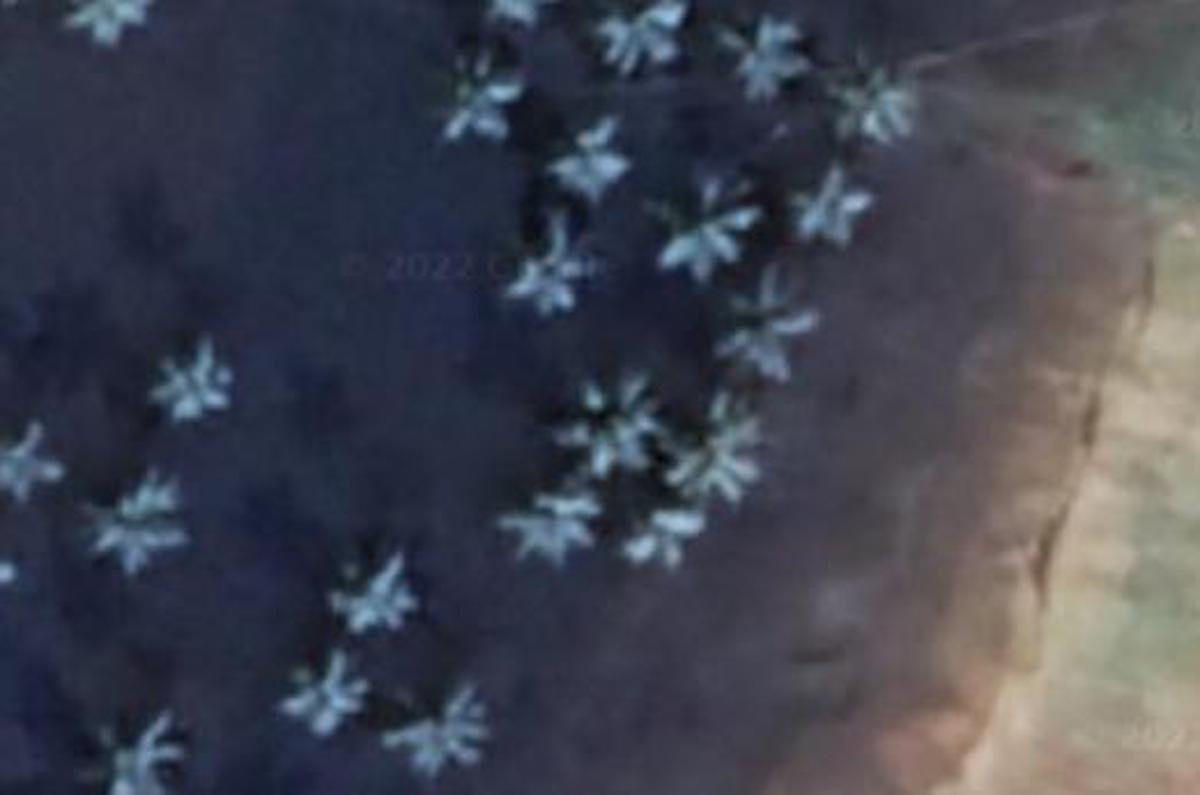coconut: (547, 372, 664, 475), (645, 174, 758, 280), (317, 528, 429, 634), (671, 395, 777, 505), (719, 275, 825, 383), (89, 468, 190, 572), (604, 482, 708, 581), (505, 461, 602, 567), (388, 691, 496, 783), (710, 11, 813, 107), (779, 167, 882, 261), (528, 119, 636, 202), (427, 43, 521, 137), (581, 0, 694, 78), (820, 62, 919, 151), (503, 225, 597, 314), (80, 716, 183, 795), (151, 335, 239, 422), (287, 652, 365, 732), (0, 420, 66, 498)
